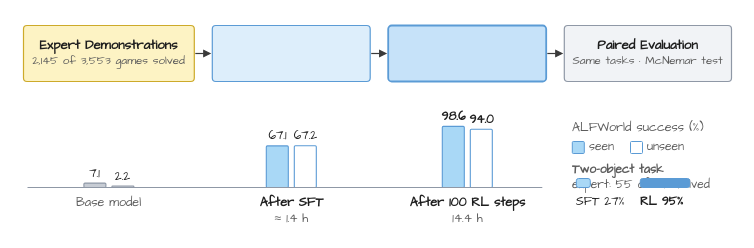
Image size: 754x248. Some labels were removed from this diagram. Each missing label, with the centre of its shape:
"Multi-Turn RL StepCredit-RL · 100 steps" belongs at point (467, 53).
"SFT Loss on tool calls · 1 epoch" belongs at point (290, 53).
